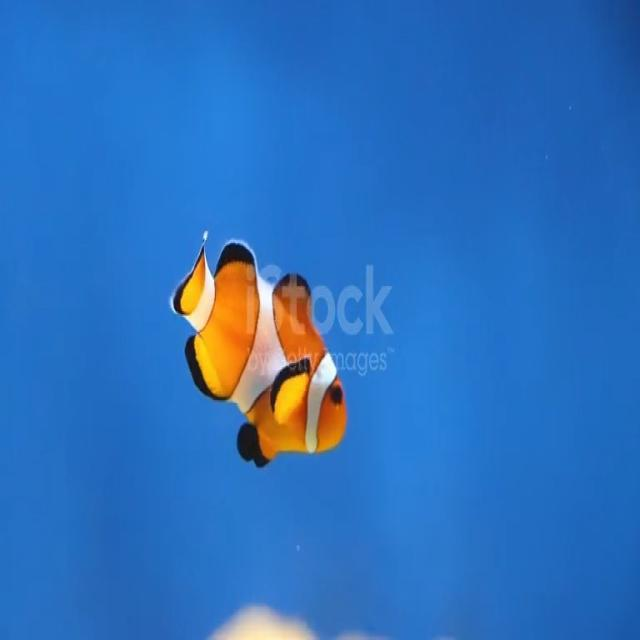fish: (164, 219, 350, 474)
